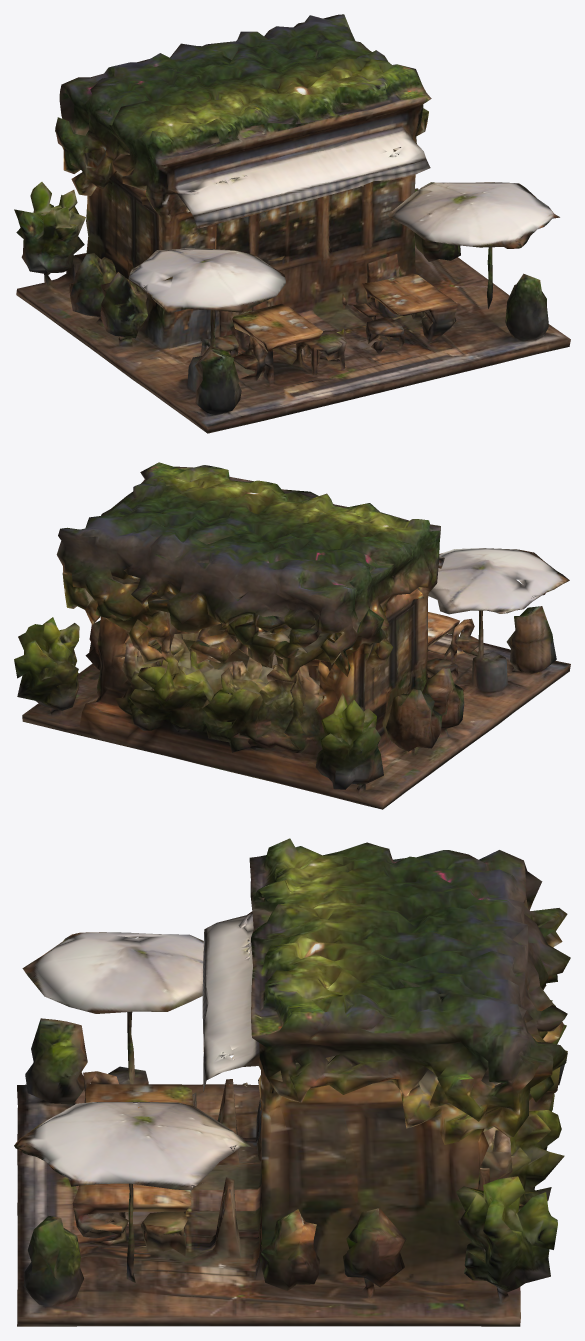
File: Generate_an_high_qual_0311050100_texture.glb
3 views of the same model, one above another, from view 1: azimuth 30°, elevation 25°; view 2: azimuth 150°, elevation 25°; view 3: azimuth 270°, elevation 25° (orthographic). The views are drawn at different scales.
Parts seen in each view (by area): view 1: Mesh_0; view 2: Mesh_0; view 3: Mesh_0.
Part boxes in pixels (x1,y1,x2,y2): Mesh_0: (14,14,570,433); Mesh_0: (14,462,570,809); Mesh_0: (14,838,570,1326).
Size of the model in its own units: 1.94 by 1.01 by 1.79.
Materials: 1 (1 with a texture image).
